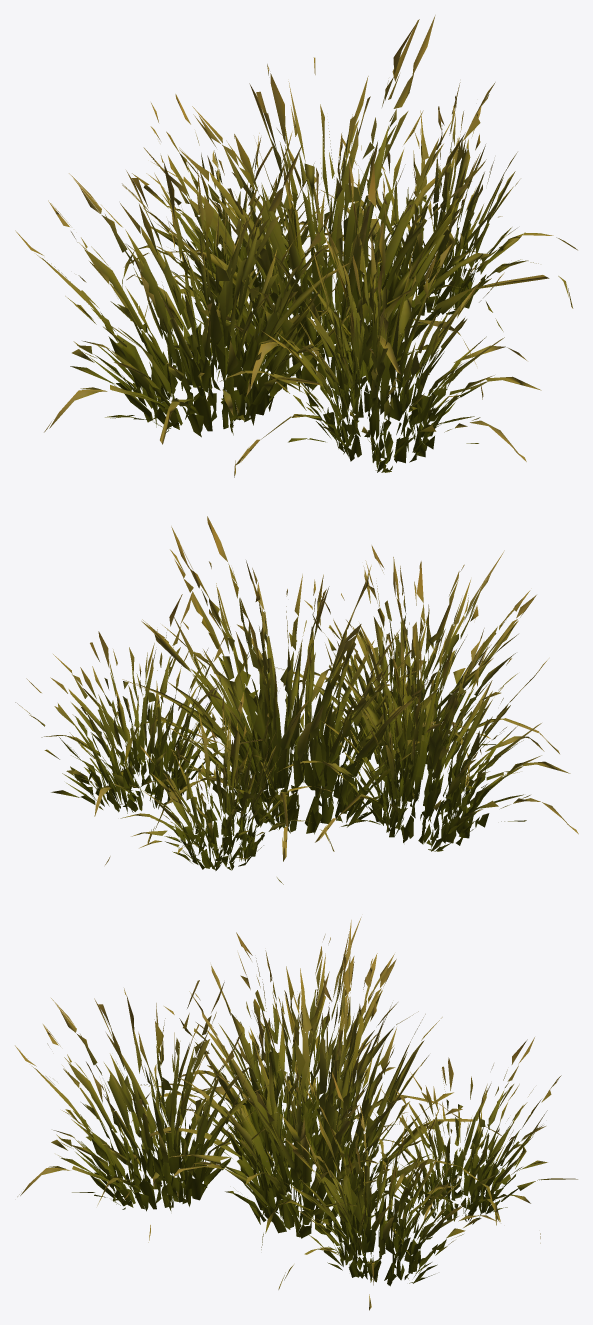
Rendered from desert_grass_fine_bush.glb.
The picture shows the model from 3 angles, top to bottom: view 1: azimuth 30°, elevation 25°; view 2: azimuth 150°, elevation 25°; view 3: azimuth 270°, elevation 25°; orthographic projection. The views are drawn at different scales.
Parts seen in each view (by area): view 1: desert_grass_fine_bush; view 2: desert_grass_fine_bush; view 3: desert_grass_fine_bush.
Part boxes in pixels (left/top/right/bottom): desert_grass_fine_bush: left=15, top=15, right=577, bottom=477; desert_grass_fine_bush: left=15, top=516, right=578, bottom=884; desert_grass_fine_bush: left=15, top=917, right=577, bottom=1310.
Size of the model in its own units: 1.53 by 0.8053 by 1.48.
1 material, 1 textured.
